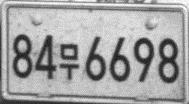4: (34, 34, 58, 80)
6: (84, 35, 107, 82), (108, 36, 131, 82)
8: (158, 37, 180, 84), (11, 33, 33, 79)
9: (133, 37, 155, 83)
무: (58, 42, 80, 82)
